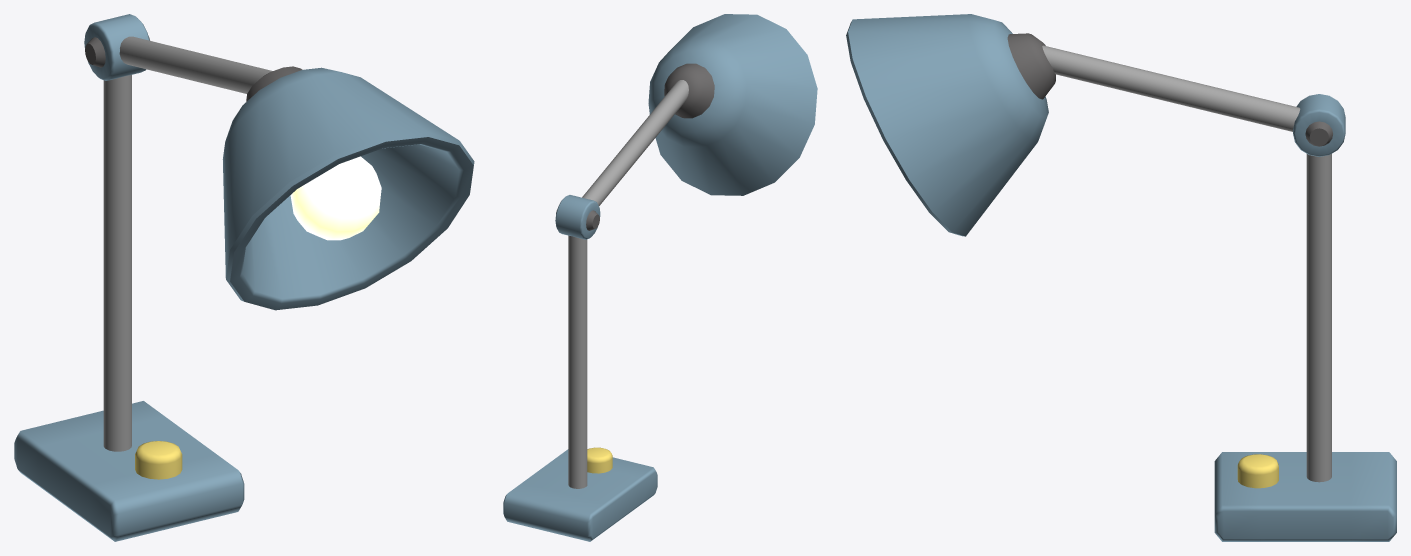
The model's file is Lamp_7.glb.
The picture shows the model from 3 angles, left to right: view 1: azimuth 30°, elevation 25°; view 2: azimuth 150°, elevation 25°; view 3: azimuth 270°, elevation 25°; orthographic projection. The views are drawn at different scales.
Parts seen in each view (by area): view 1: Lamp_7; view 2: Lamp_7; view 3: Lamp_7.
Boxes of the visible parts, box(x1,y1,x2,y2) form: Lamp_7: box(14, 14, 474, 541); Lamp_7: box(503, 14, 817, 541); Lamp_7: box(846, 14, 1396, 541).
Size of the model in its own units: 0.2939 by 0.6518 by 0.6608.
2 materials, 1 textured.
